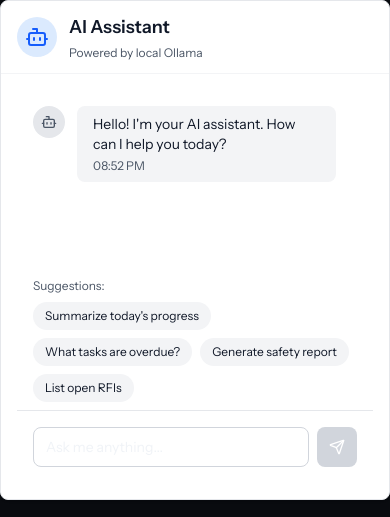
Test: AIAvatar › shows fallback mode when the backend falls back to rules
Type "Need a summary" into the field with placeholder "Ask me anything..." at (171, 447), box [33,427,309,467]
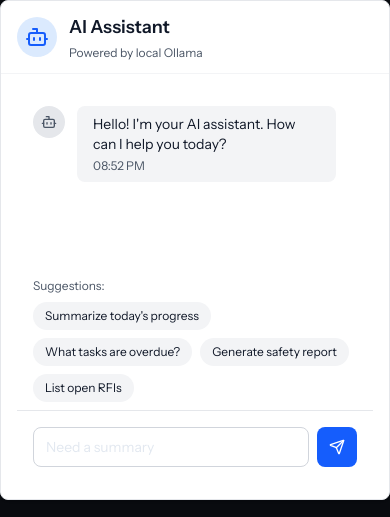
Submit the form with placeholder "Ask me anything...", box [17,410,373,483]
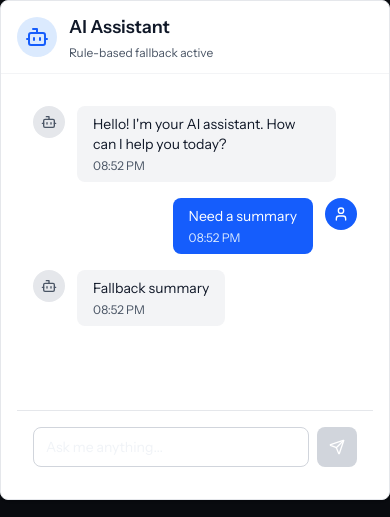
Expected: the text "Fallback summary" is shown, [93,278,209,298]
Expected: the text "Rule-based fallback active" is shown, [69,45,213,61]
